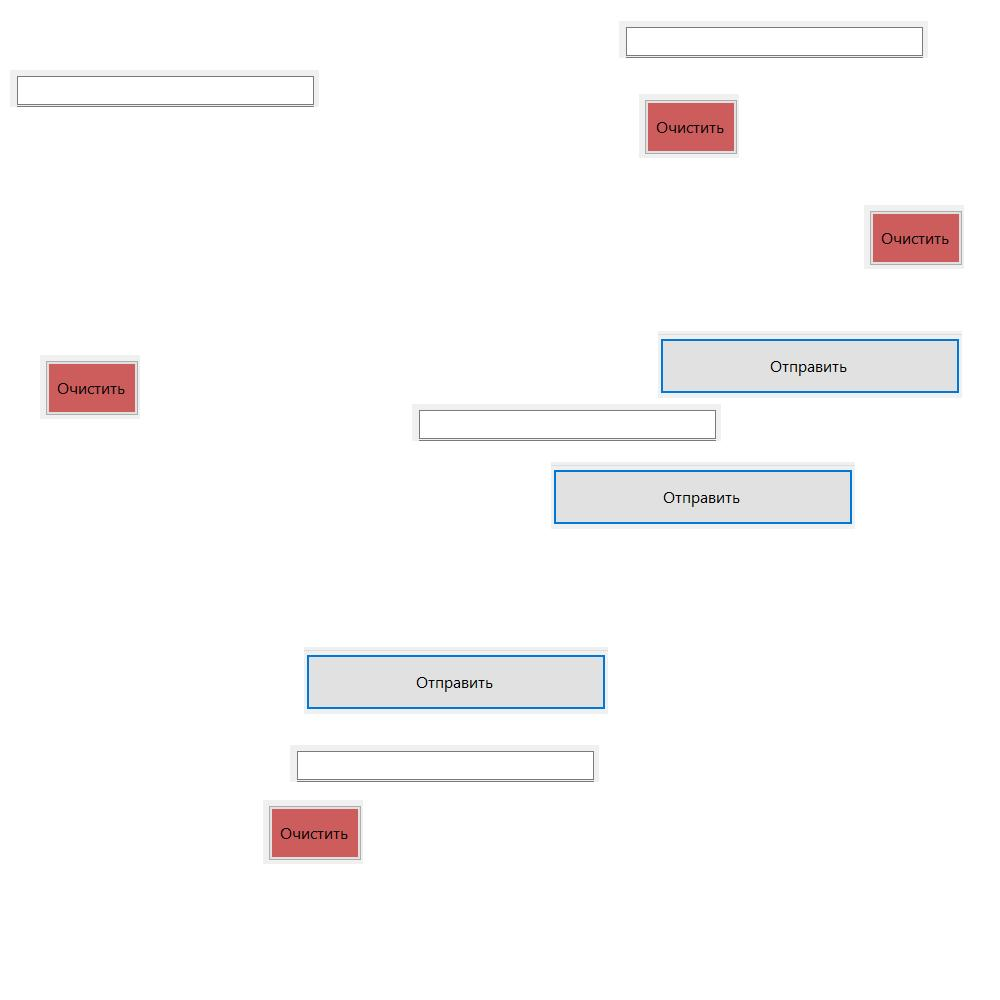Button: (551, 462, 855, 529), (658, 331, 962, 398), (304, 647, 608, 714), (40, 355, 140, 419), (864, 205, 964, 269), (263, 800, 363, 864), (639, 94, 739, 158)
EditText-: (412, 404, 721, 441), (10, 70, 319, 107), (290, 745, 599, 782), (619, 21, 928, 58)
